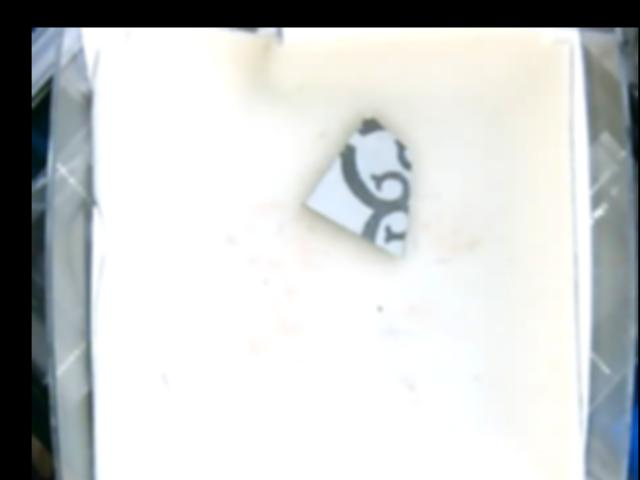China: (303, 113, 411, 255)
